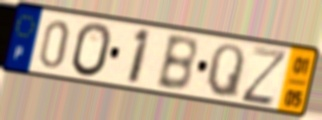0: (37, 18, 74, 70)
1: (128, 27, 152, 88)
B: (154, 34, 199, 93)
O: (70, 20, 114, 79)
Q: (204, 42, 247, 102)
Z: (239, 44, 290, 108)
